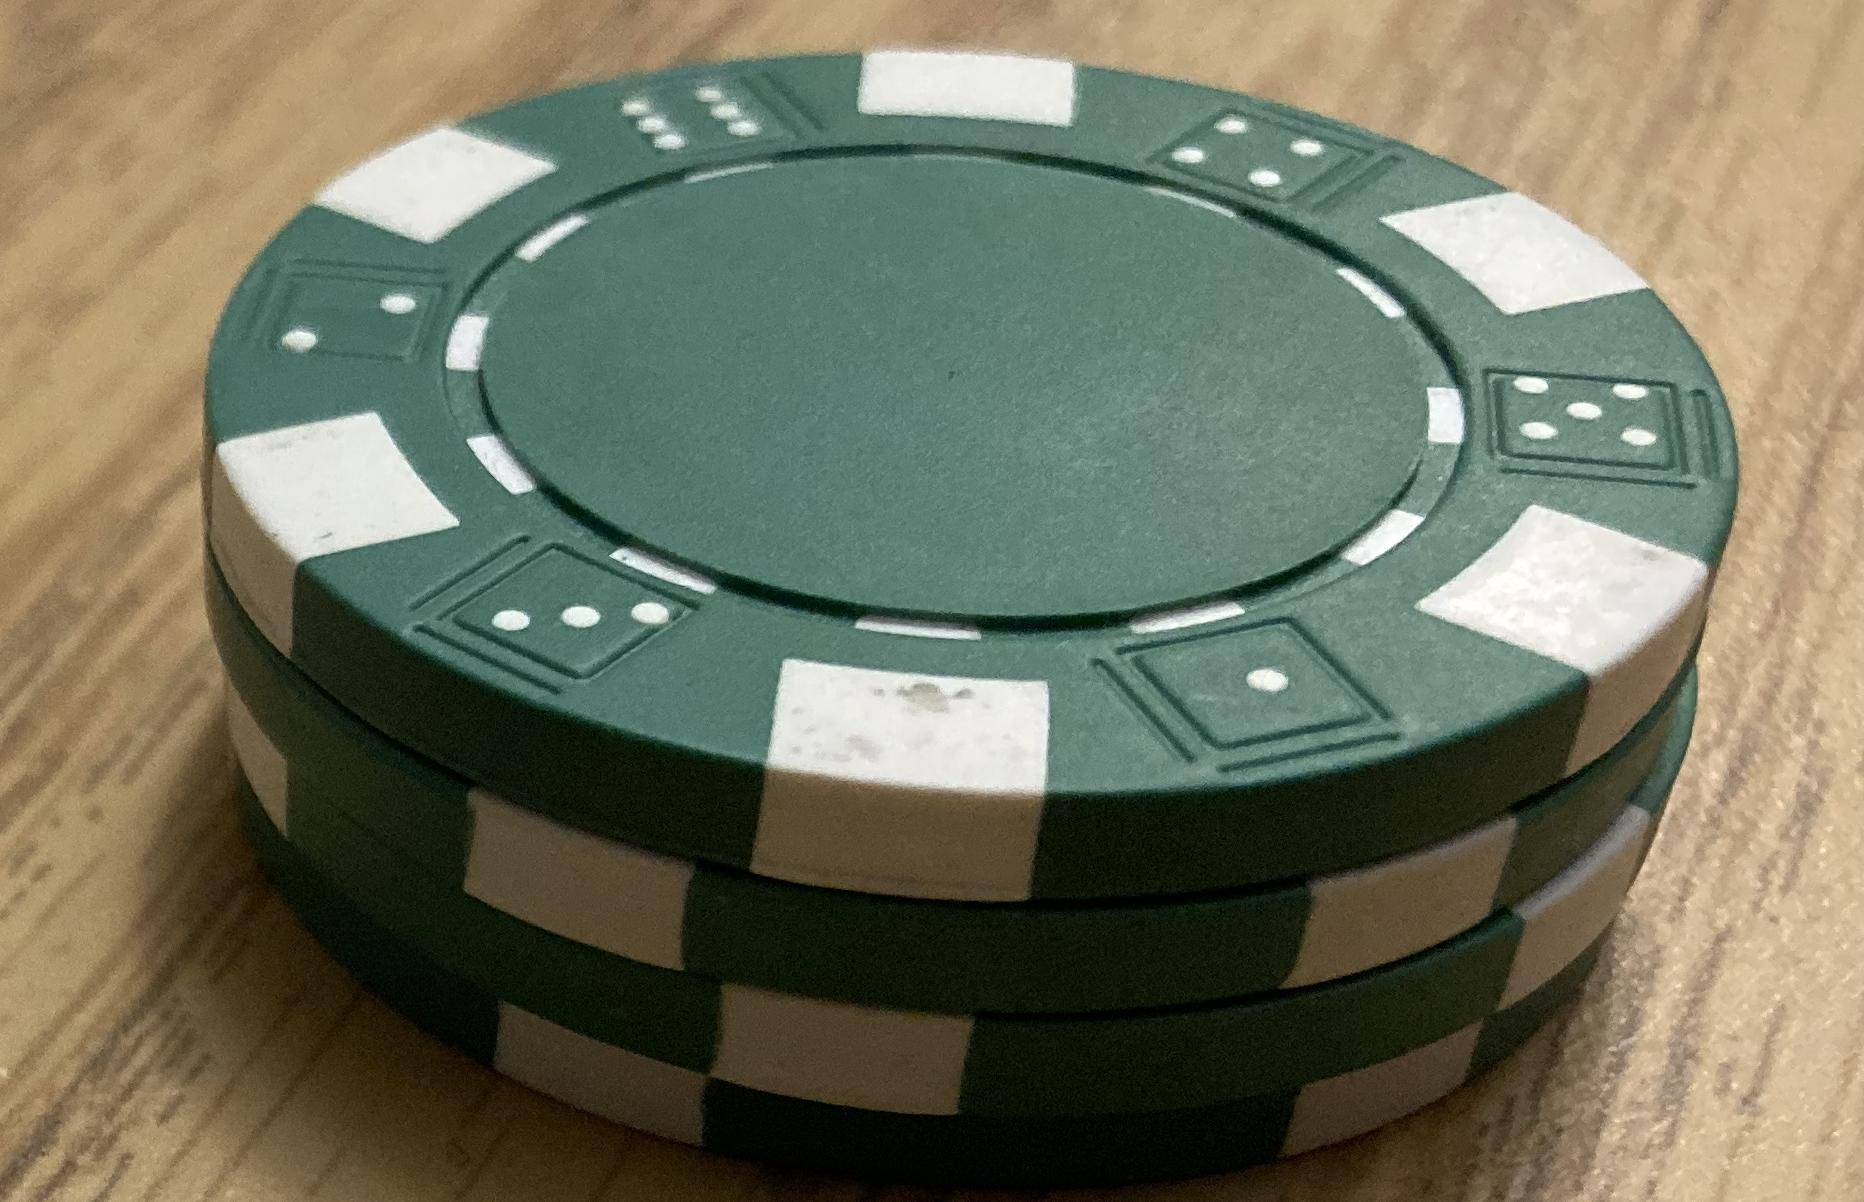Chip: (1, 1, 1864, 1202)
